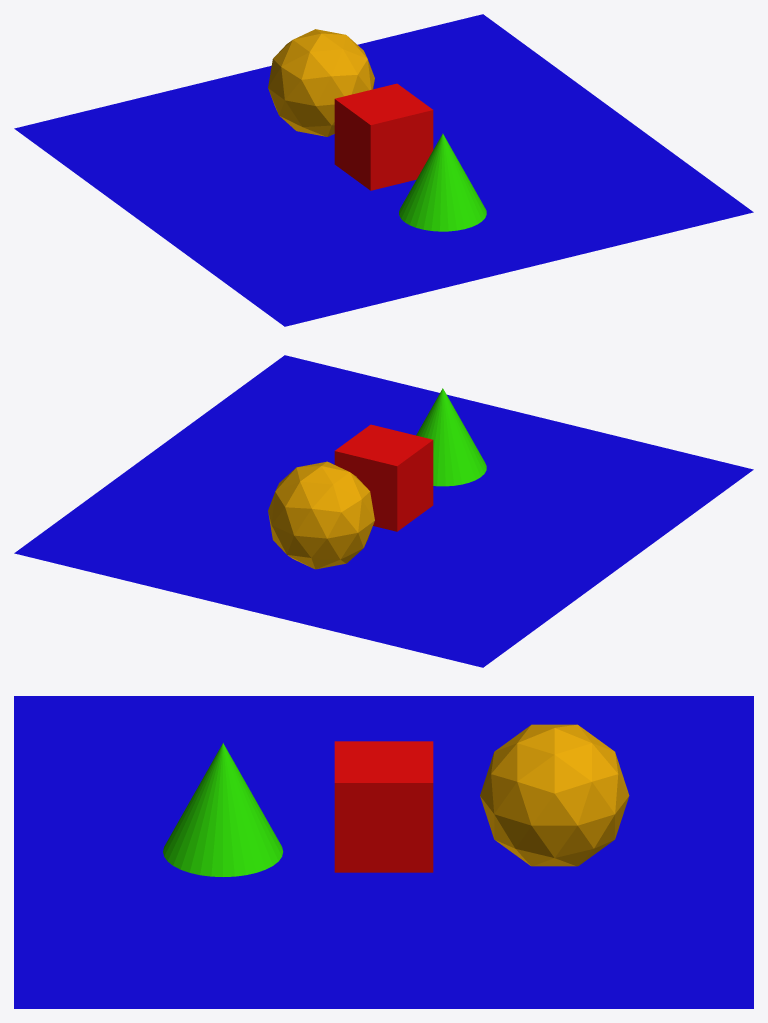
File: simpleScene.fbx
The picture shows the model from 3 angles, top to bottom: view 1: azimuth 30°, elevation 25°; view 2: azimuth 150°, elevation 25°; view 3: azimuth 270°, elevation 25°; orthographic projection. The views are drawn at different scales.
Parts seen in each view (by area): view 1: Plane.001, Cube, Icosphere, Cone; view 2: Plane.001, Icosphere, Cube, Cone; view 3: Plane.001, Icosphere, Cube, Cone.
Boxes of the visible parts, x1=… form: Plane.001: x1=14, y1=14, x2=753, y2=326; Cube: x1=334, y1=83, x2=433, y2=190; Icosphere: x1=268, y1=29, x2=374, y2=136; Cone: x1=399, y1=133, x2=486, y2=231; Plane.001: x1=14, y1=355, x2=753, y2=667; Icosphere: x1=268, y1=461, x2=374, y2=569; Cube: x1=334, y1=424, x2=433, y2=531; Cone: x1=416, y1=388, x2=486, y2=486; Plane.001: x1=14, y1=696, x2=753, y2=1008; Icosphere: x1=480, y1=724, x2=629, y2=866; Cube: x1=334, y1=741, x2=433, y2=872; Cone: x1=163, y1=743, x2=283, y2=876.
Size of the model in its own units: 539 by 109 by 539.
